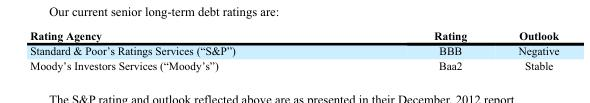table: (29, 28, 558, 71)
table column: (29, 28, 334, 71), (334, 28, 491, 71), (491, 28, 558, 71)
table column header: (29, 28, 558, 42)
table row: (29, 42, 558, 57), (29, 28, 558, 42), (29, 57, 558, 71)
